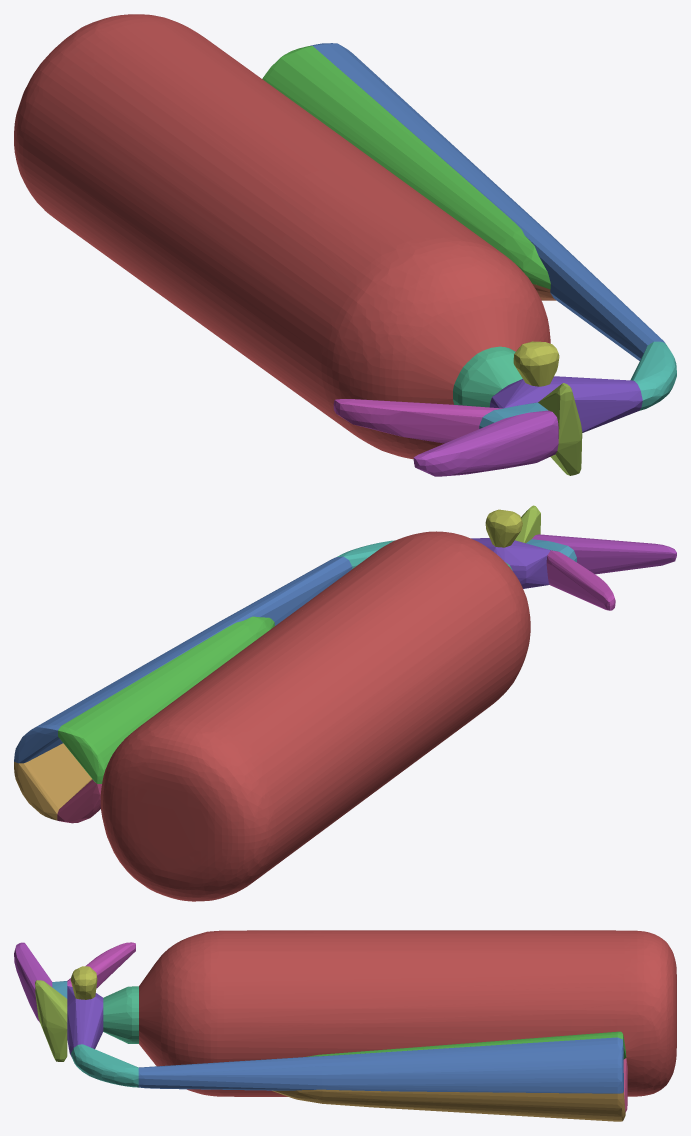
Rendered from hulls.glb.
The picture shows the model from 3 angles, top to bottom: view 1: azimuth 30°, elevation 25°; view 2: azimuth 150°, elevation 25°; view 3: azimuth 270°, elevation 25°; orthographic projection. The views are drawn at different scales.
Bounding box in the file's own units: 0.2418 × 0.1289 × 0.5228.
